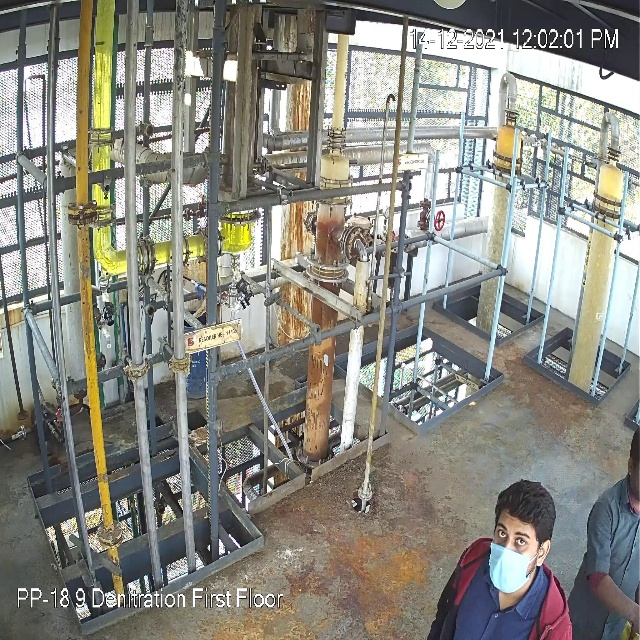Sin_gafas: (494, 523, 531, 551)
